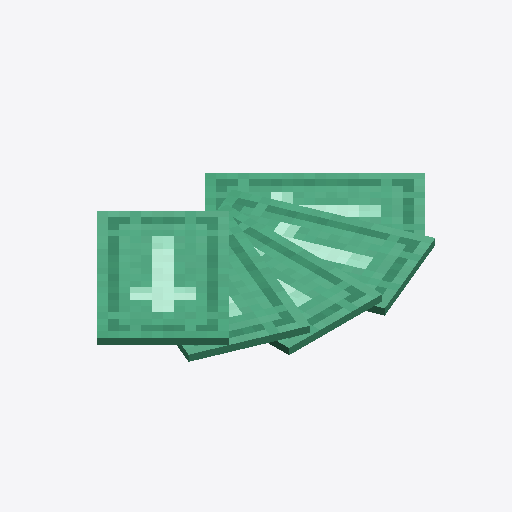
A Minecraft block model of 5 cuboids, rendered isometrically (azimuth 45°, elevation 35.3°) with the resource pack's own textures.
Visible parts, largest first — element 5, element 2, element 1, element 3, element 4.
Boxes of the visible parts, x1,y1,x2,y2 form: element 5: [97, 211, 228, 344]; element 2: [218, 190, 434, 315]; element 1: [205, 173, 424, 234]; element 3: [216, 205, 381, 354]; element 4: [177, 208, 309, 361].
Bounding box in the file's own units: 10.65 × 1 × 6.86.